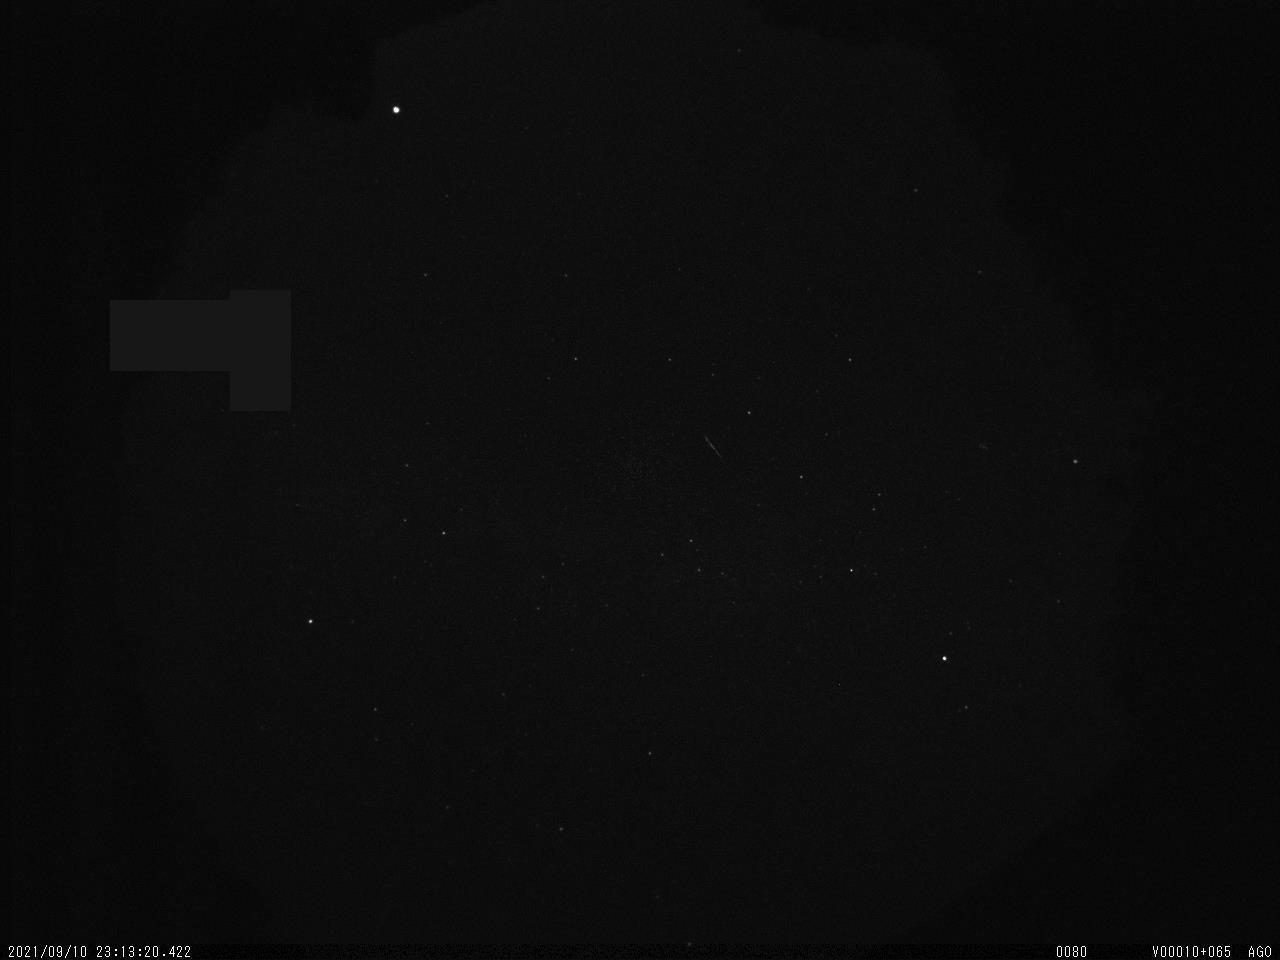Meteor: (694, 424, 730, 467)
